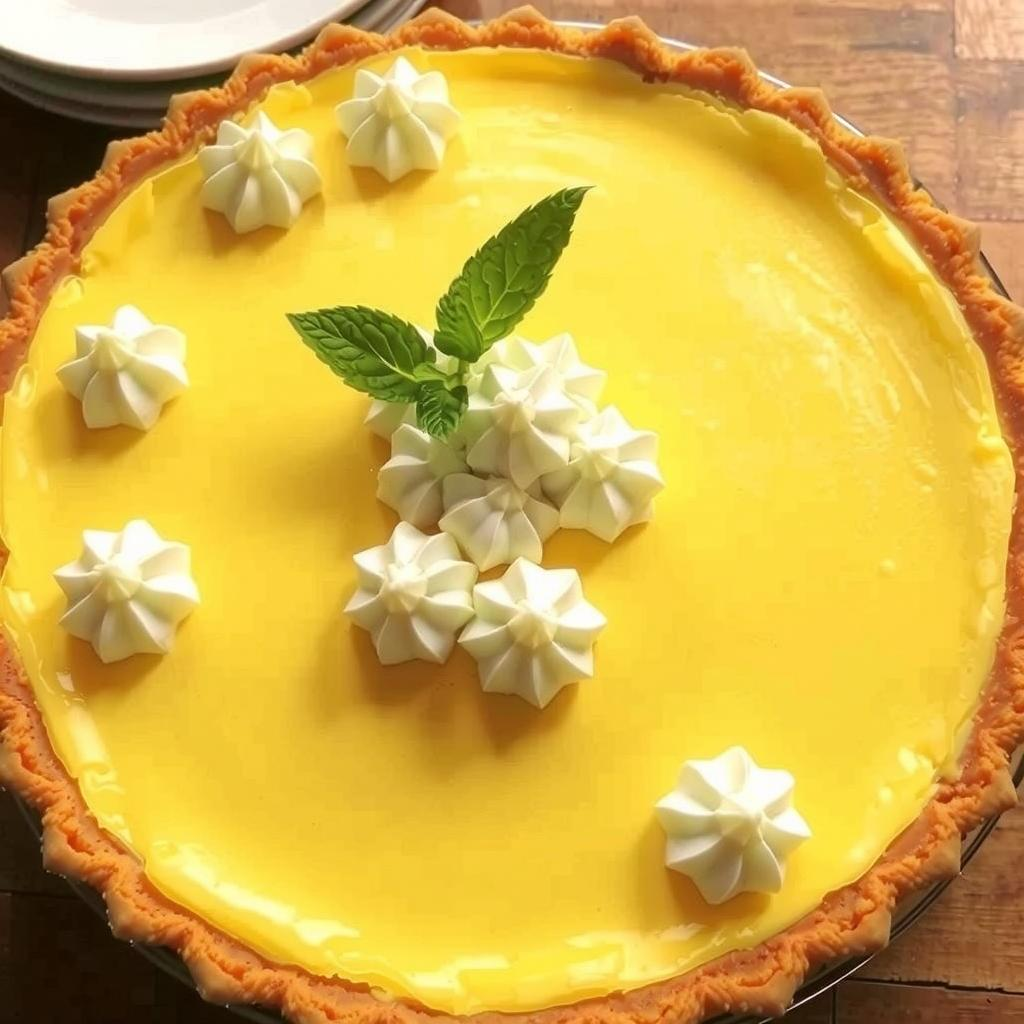cake: (0, 6, 1024, 1024)
